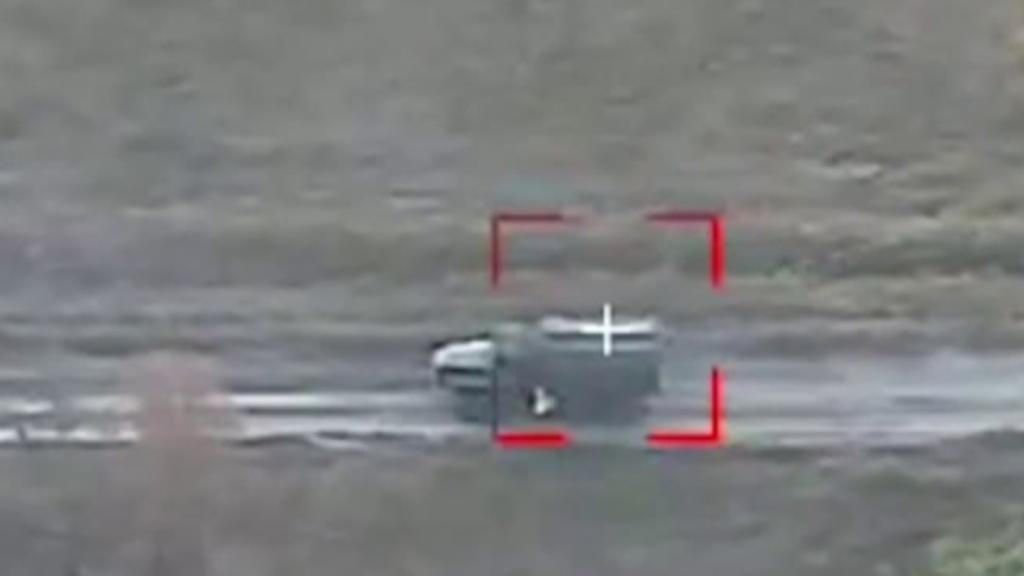TRUCK: (430, 313, 668, 420)
